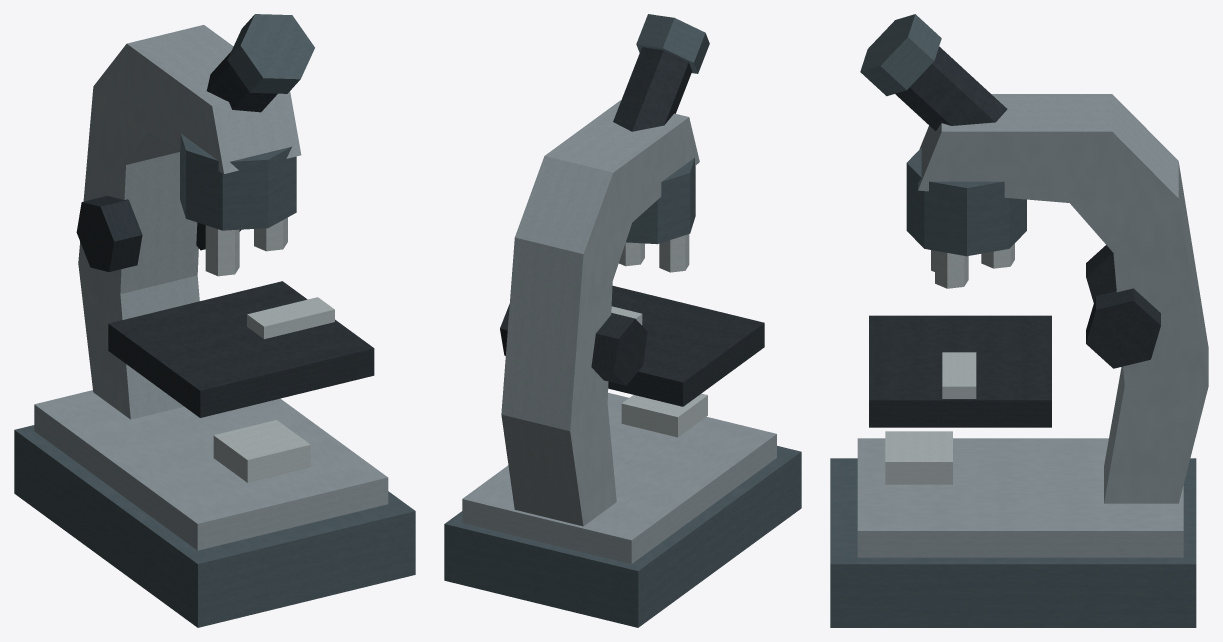
The model's file is Laboratory_Microscope.glb.
3 renders of one model, left to right at view 1: azimuth 30°, elevation 25°; view 2: azimuth 150°, elevation 25°; view 3: azimuth 270°, elevation 25°, orthographic. The views are drawn at different scales.
Parts seen in each view (by area): view 1: Laboratory_Microscope; view 2: Laboratory_Microscope; view 3: Laboratory_Microscope.
Part boxes in pixels (left/top/right/bottom): Laboratory_Microscope: left=14, top=14, right=415, bottom=627; Laboratory_Microscope: left=444, top=14, right=801, bottom=627; Laboratory_Microscope: left=830, top=14, right=1208, bottom=627.
Size of the model in its own units: 0.2 by 0.4901 by 0.302.
1 material, 1 textured.
